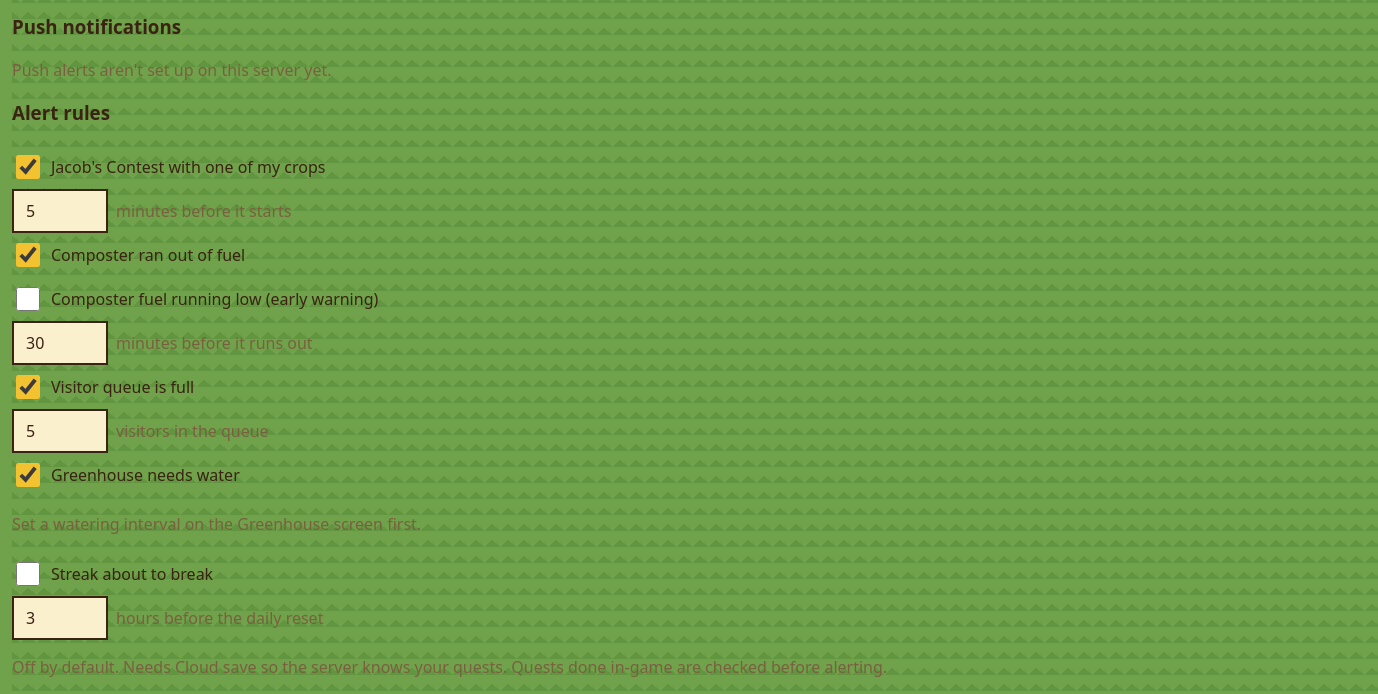
Scenario: AlertsSection › does not send an out-of-range streak lead
(page scrolled)
Replace the text in the number field labelled "hours before the daily reset" with "13" at (60, 618), box [12,596,108,640]
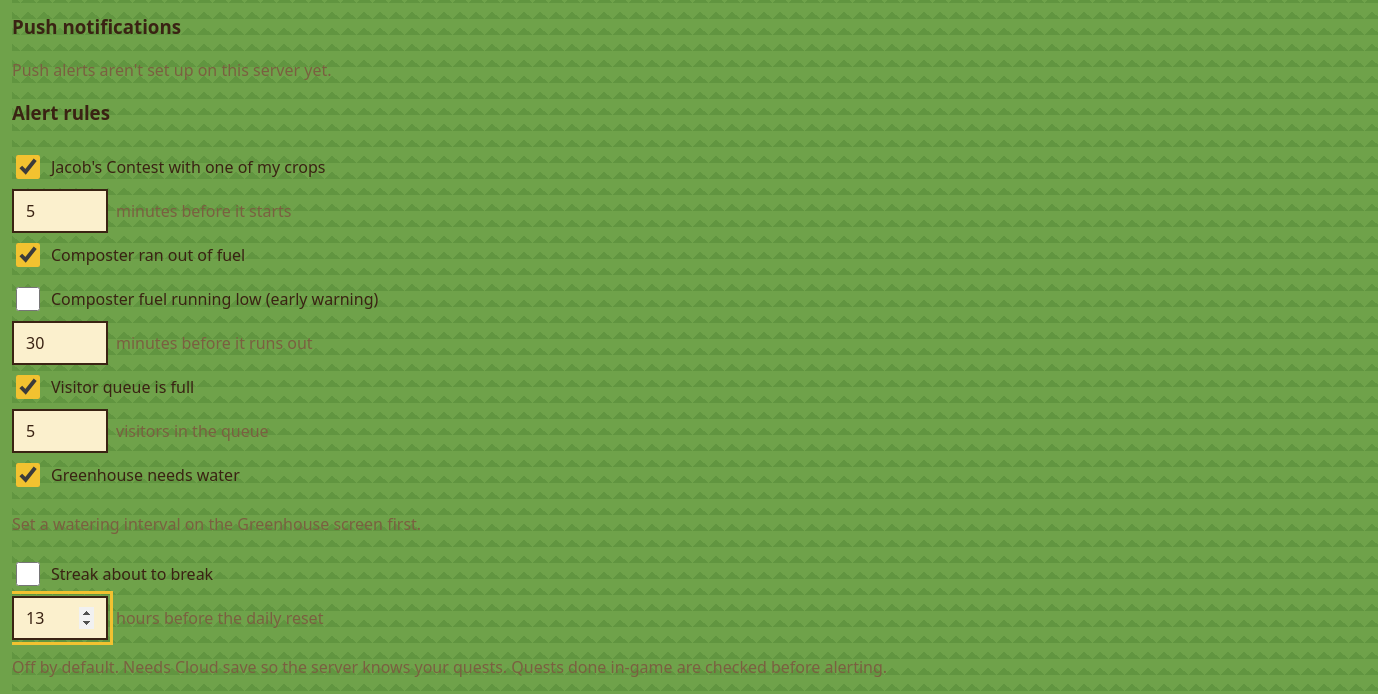
Press Tab
(page scrolled)
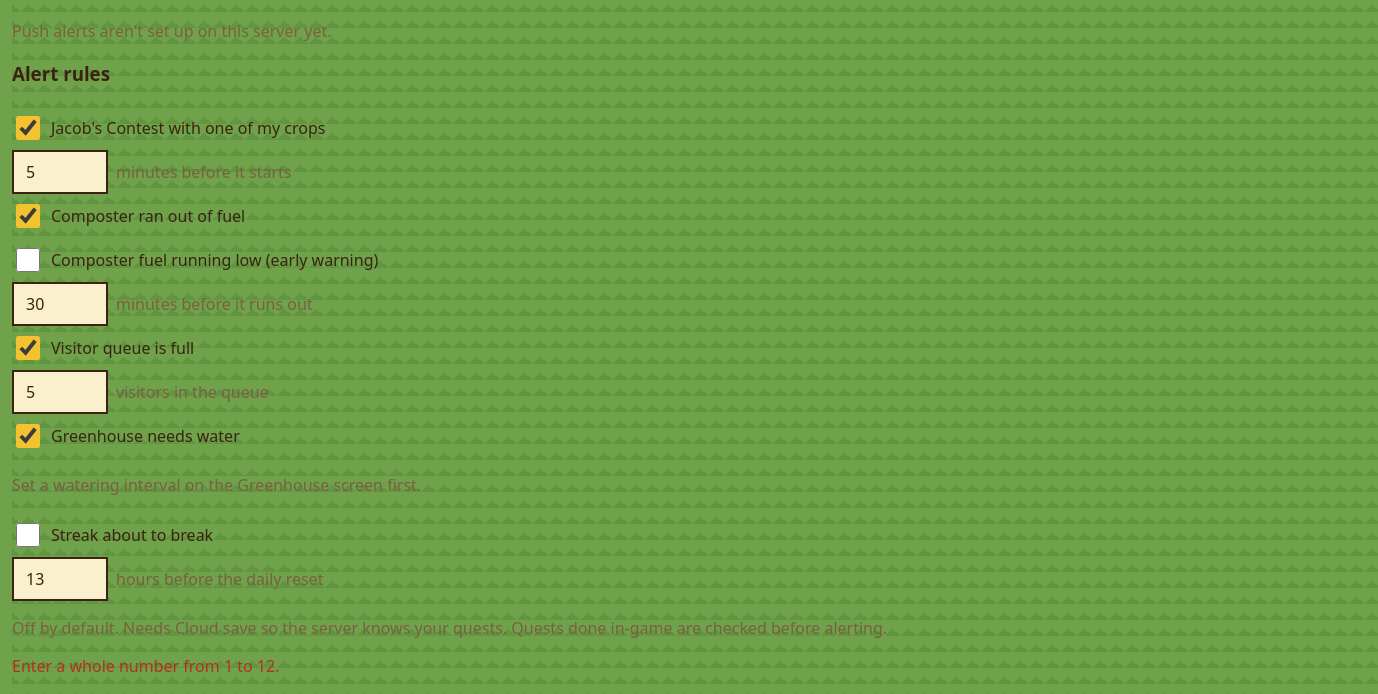
Check: the text "Enter a whole number from 1 to 12." is shown, box [12,655,279,677]
